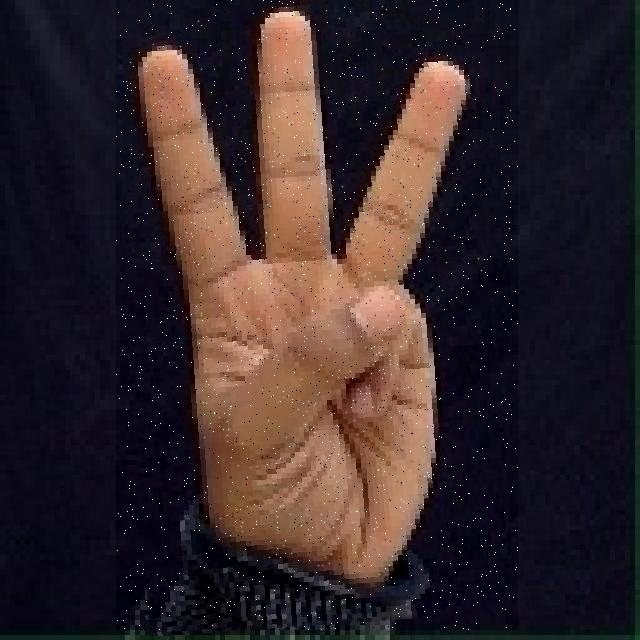Please: (116, 0, 518, 630)
